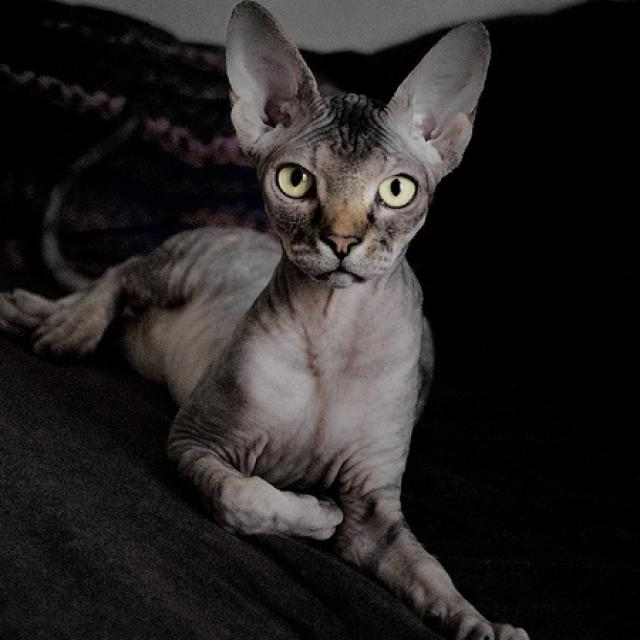Sphynx: (29, 0, 538, 640)
